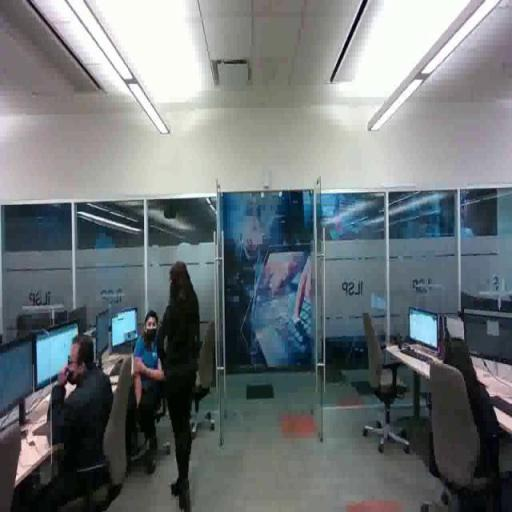person: (35, 330, 133, 508), (426, 331, 512, 512), (154, 258, 205, 512), (133, 308, 178, 458)
